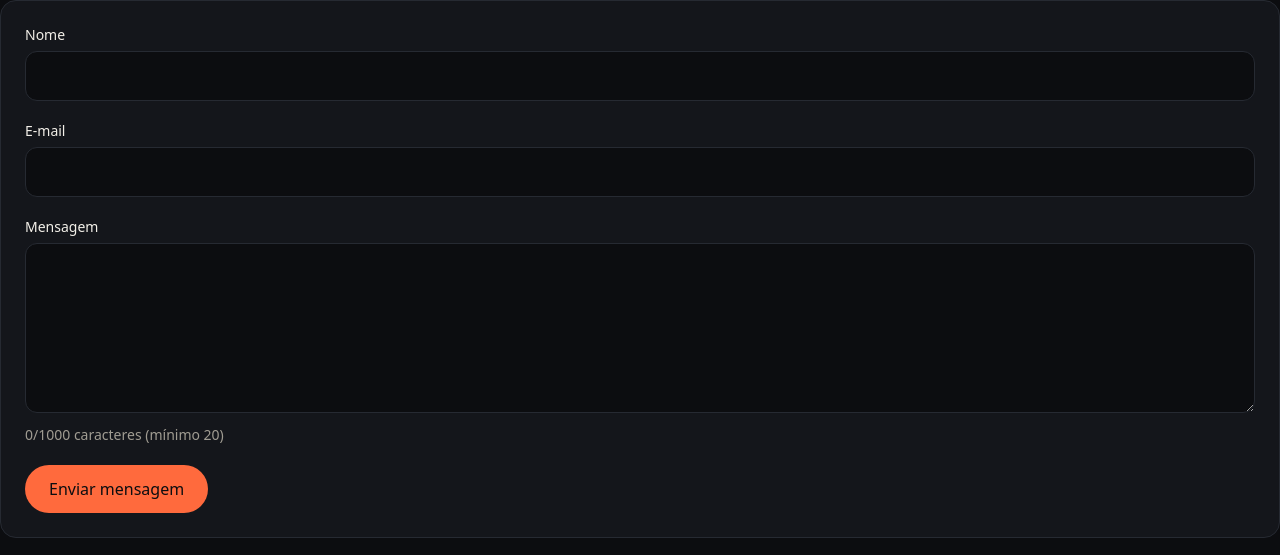
ContactForm › bloqueia o botão durante o envio e envia uma única vez
Type "Arthur" into the field labelled "Nome" at {"x": 640, "y": 76}, box [25,51,1255,101]
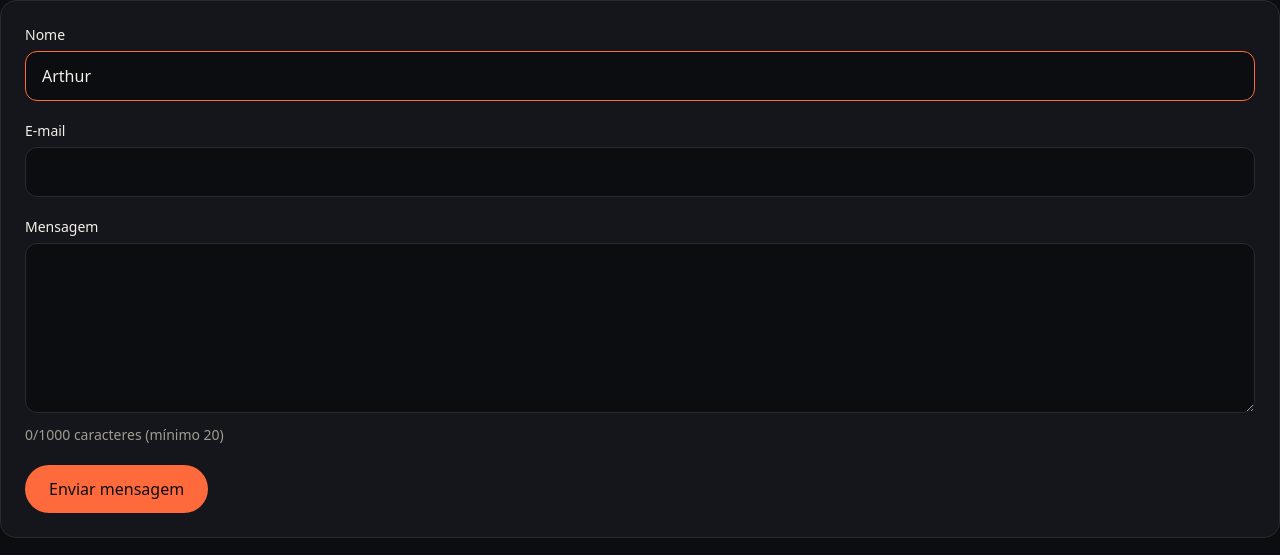
Type "arthur@exemplo.com" into the field labelled "E-mail" at {"x": 640, "y": 172}, box [25,147,1255,197]
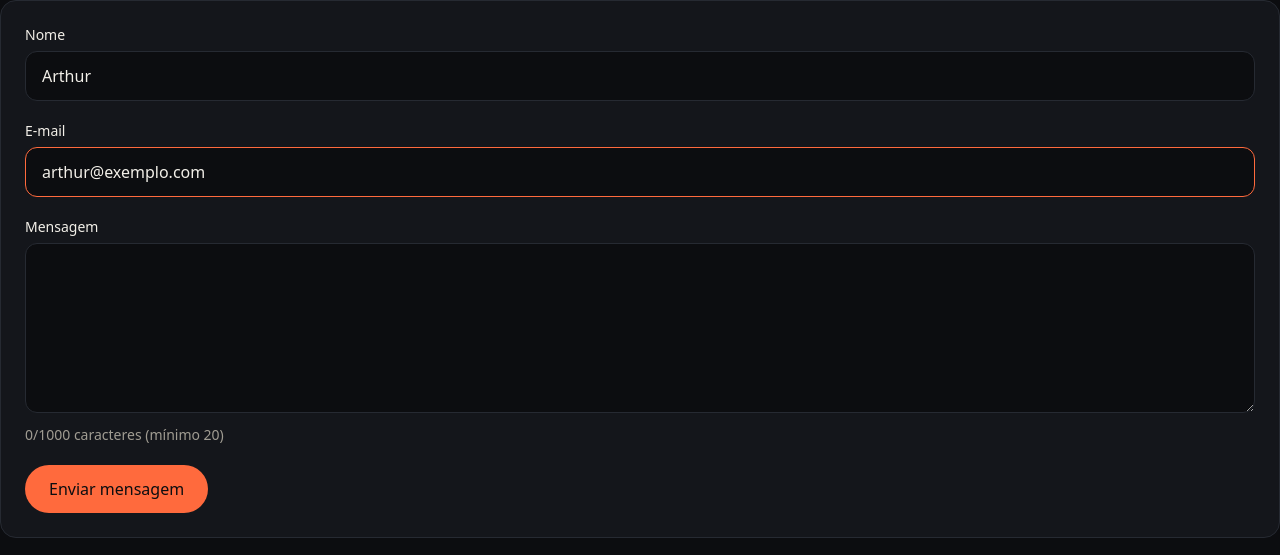
Type "Olá! Gostaria de conversar sobre uma vaga de front-end." into the text box labelled "Mensagem" at {"x": 640, "y": 328}, box [25,243,1255,413]
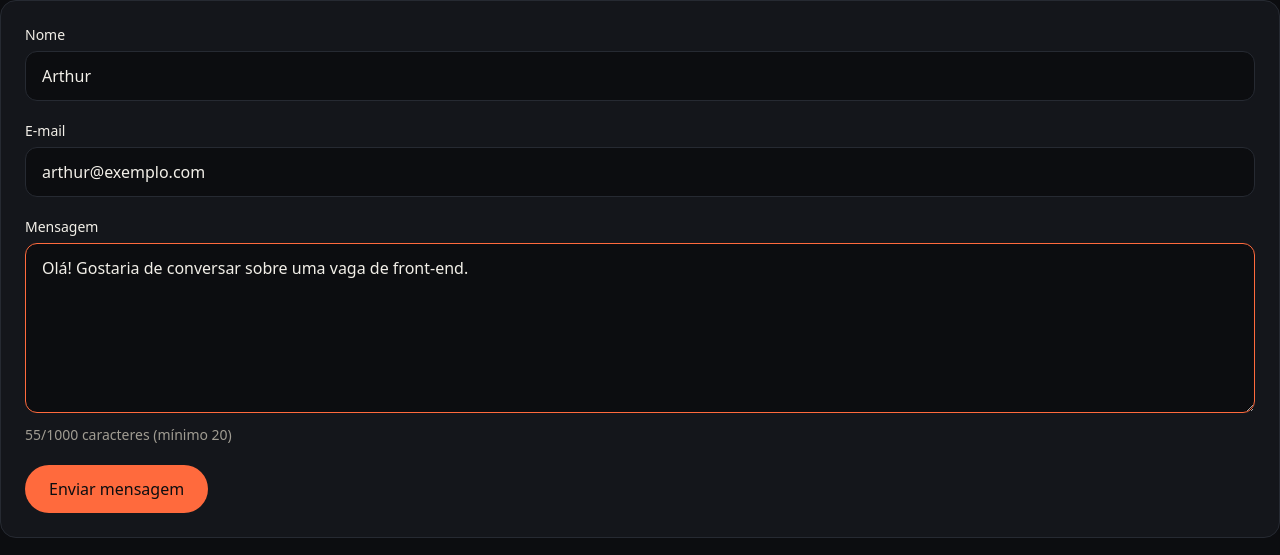
Click the button "Enviar mensagem" at {"x": 117, "y": 489}, box [25,465,208,513]
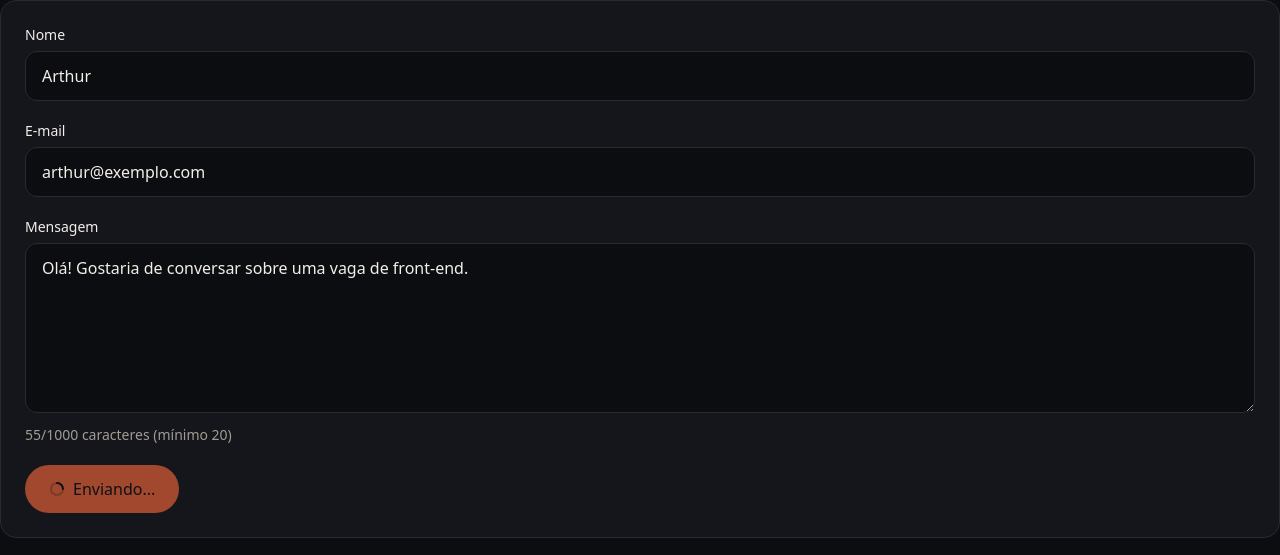
Now the button "Enviando..." is disabled
Click the button "Enviando..." at {"x": 102, "y": 489}, box [25,465,179,513]
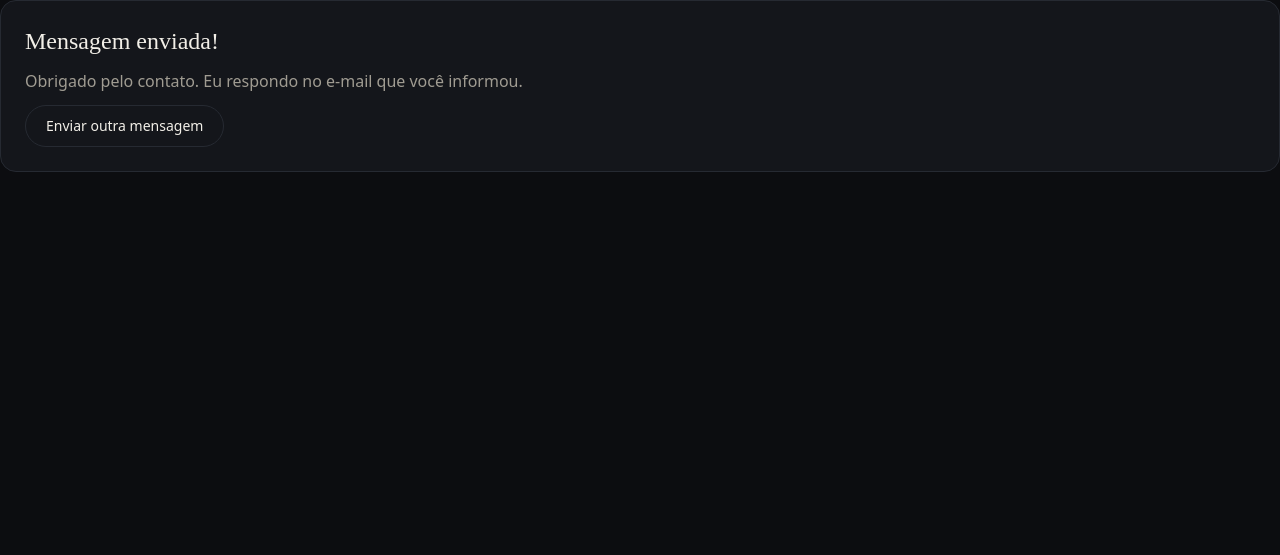
Now the heading "Mensagem enviada!" is shown, box [25,25,219,57]
